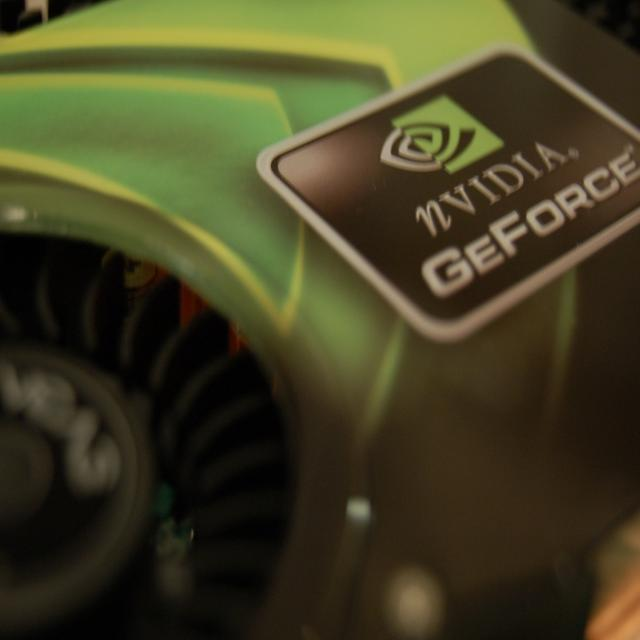nvidia: (382, 92, 505, 177)
